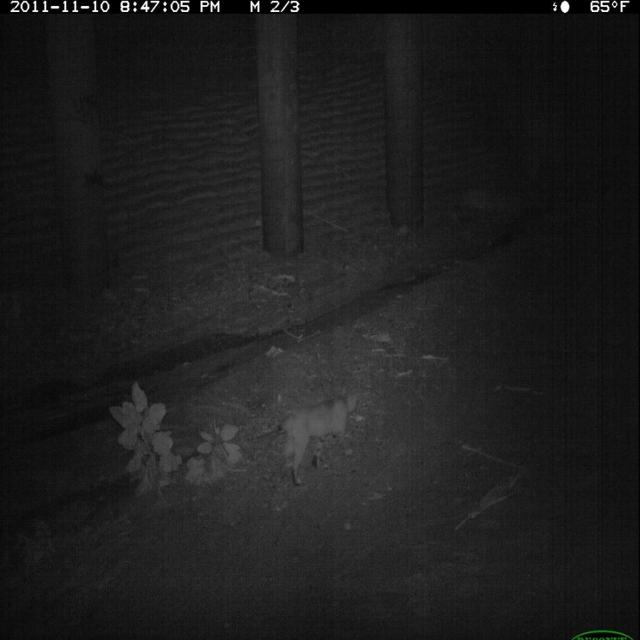bobcat: (273, 379, 365, 491)
